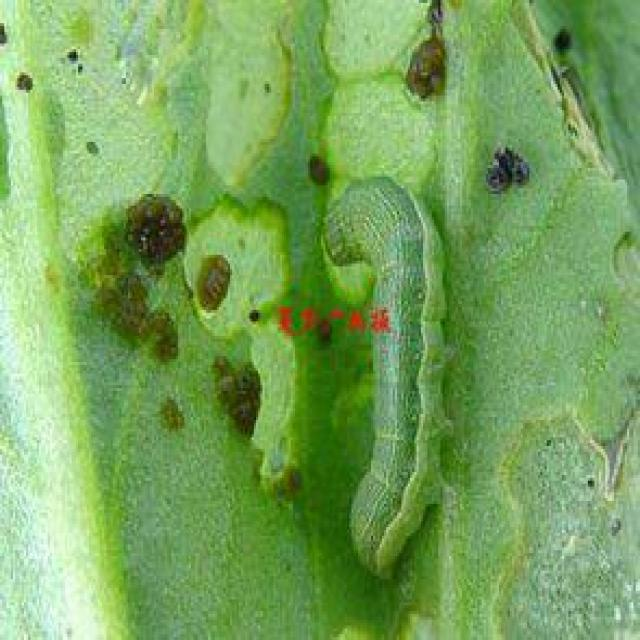BeetArmyWorm-Larva-: (318, 162, 455, 578)
